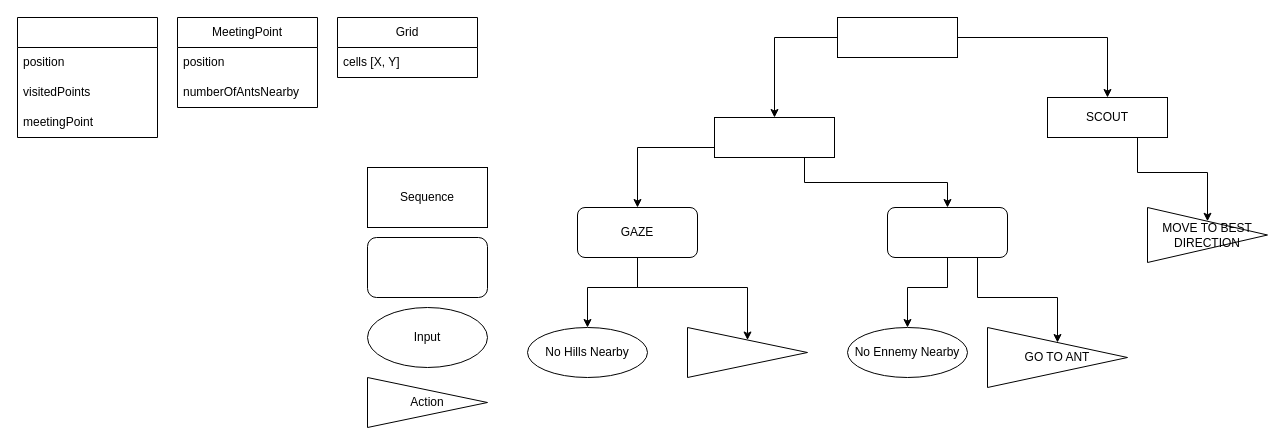
This 1285x445 diagram has some shape labels left out. Here are the shapes that lost their labels. From the top down, the box of each, then its label:
(836, 16, 958, 58): IAFourmis
(16, 16, 158, 138): Ants
(714, 116, 834, 158): SOLDIER
(886, 206, 1008, 258): ENNEMY
(366, 236, 488, 298): Selector
(686, 326, 808, 378): GO TO HILL
